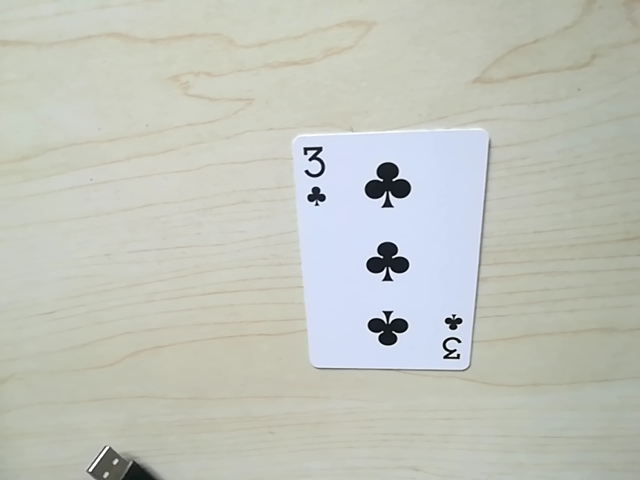mh 3: (294, 141, 333, 209), (428, 314, 468, 366)
